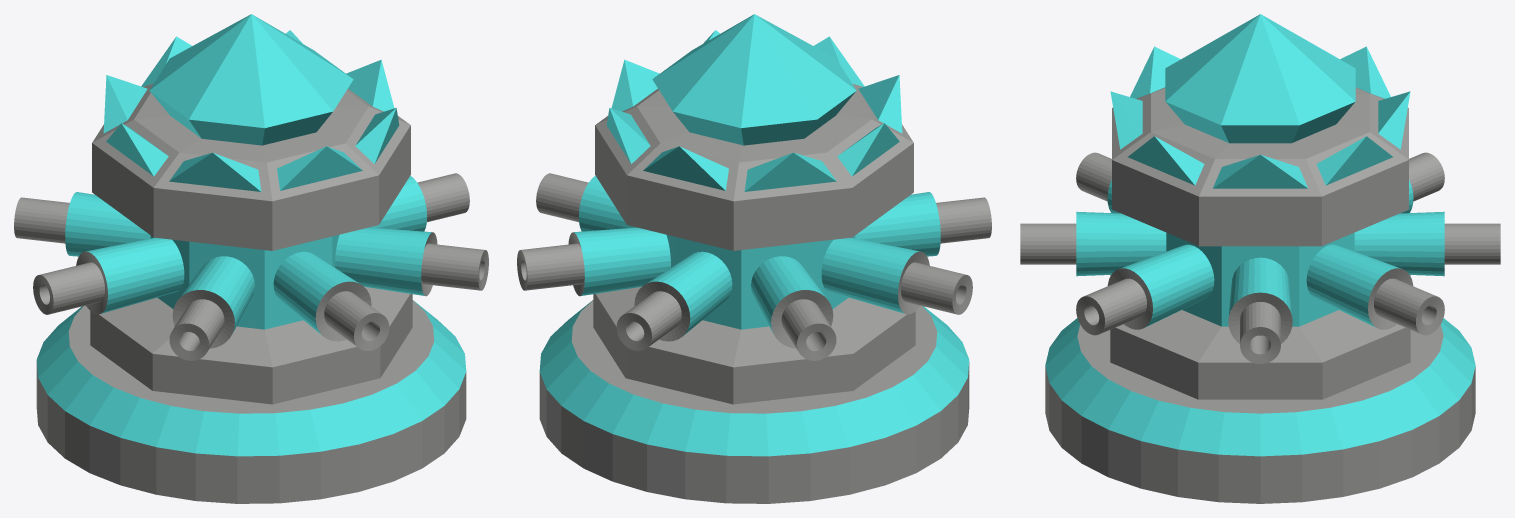
Rendered from spikey_upgraded_ice.fbx.
3 renders of one model, left to right at view 1: azimuth 30°, elevation 25°; view 2: azimuth 150°, elevation 25°; view 3: azimuth 270°, elevation 25°, orthographic.
Visible parts, largest first — view 1: Circle; view 2: Circle; view 3: Circle.
Boxes of the visible parts, <box> form: Circle: <box>14,14,488,503</box>; Circle: <box>517,14,991,503</box>; Circle: <box>1020,14,1500,503</box>.
Bounding box in the file's own units: 223 × 205 × 223.
1 material, 1 textured.
